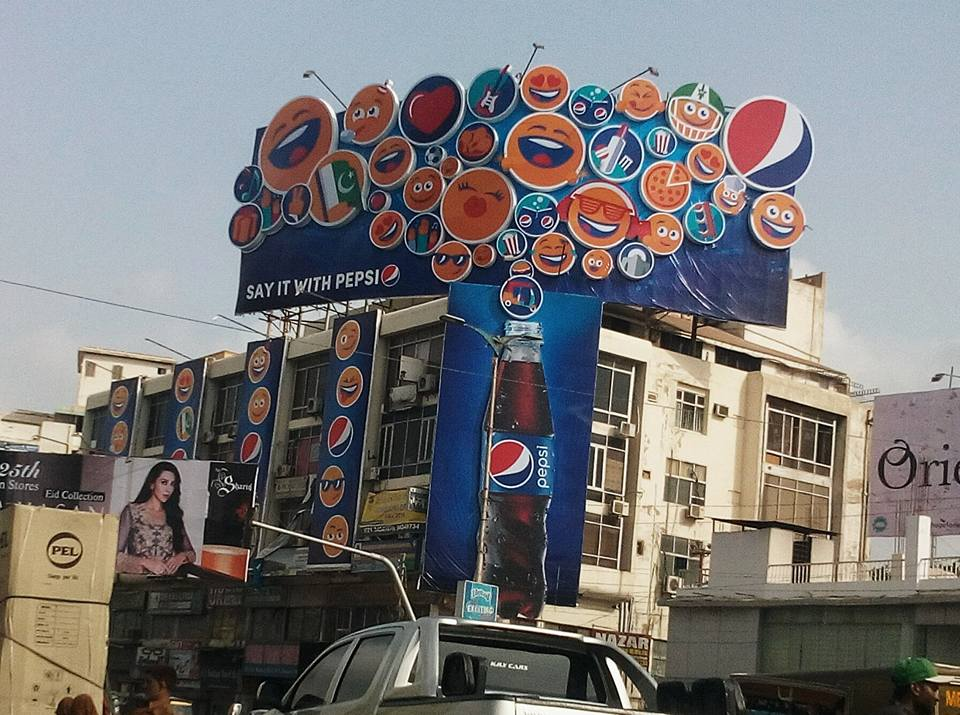pepsi: (728, 96, 811, 187), (488, 439, 532, 486), (326, 415, 350, 454), (238, 430, 265, 463), (379, 261, 400, 283)
